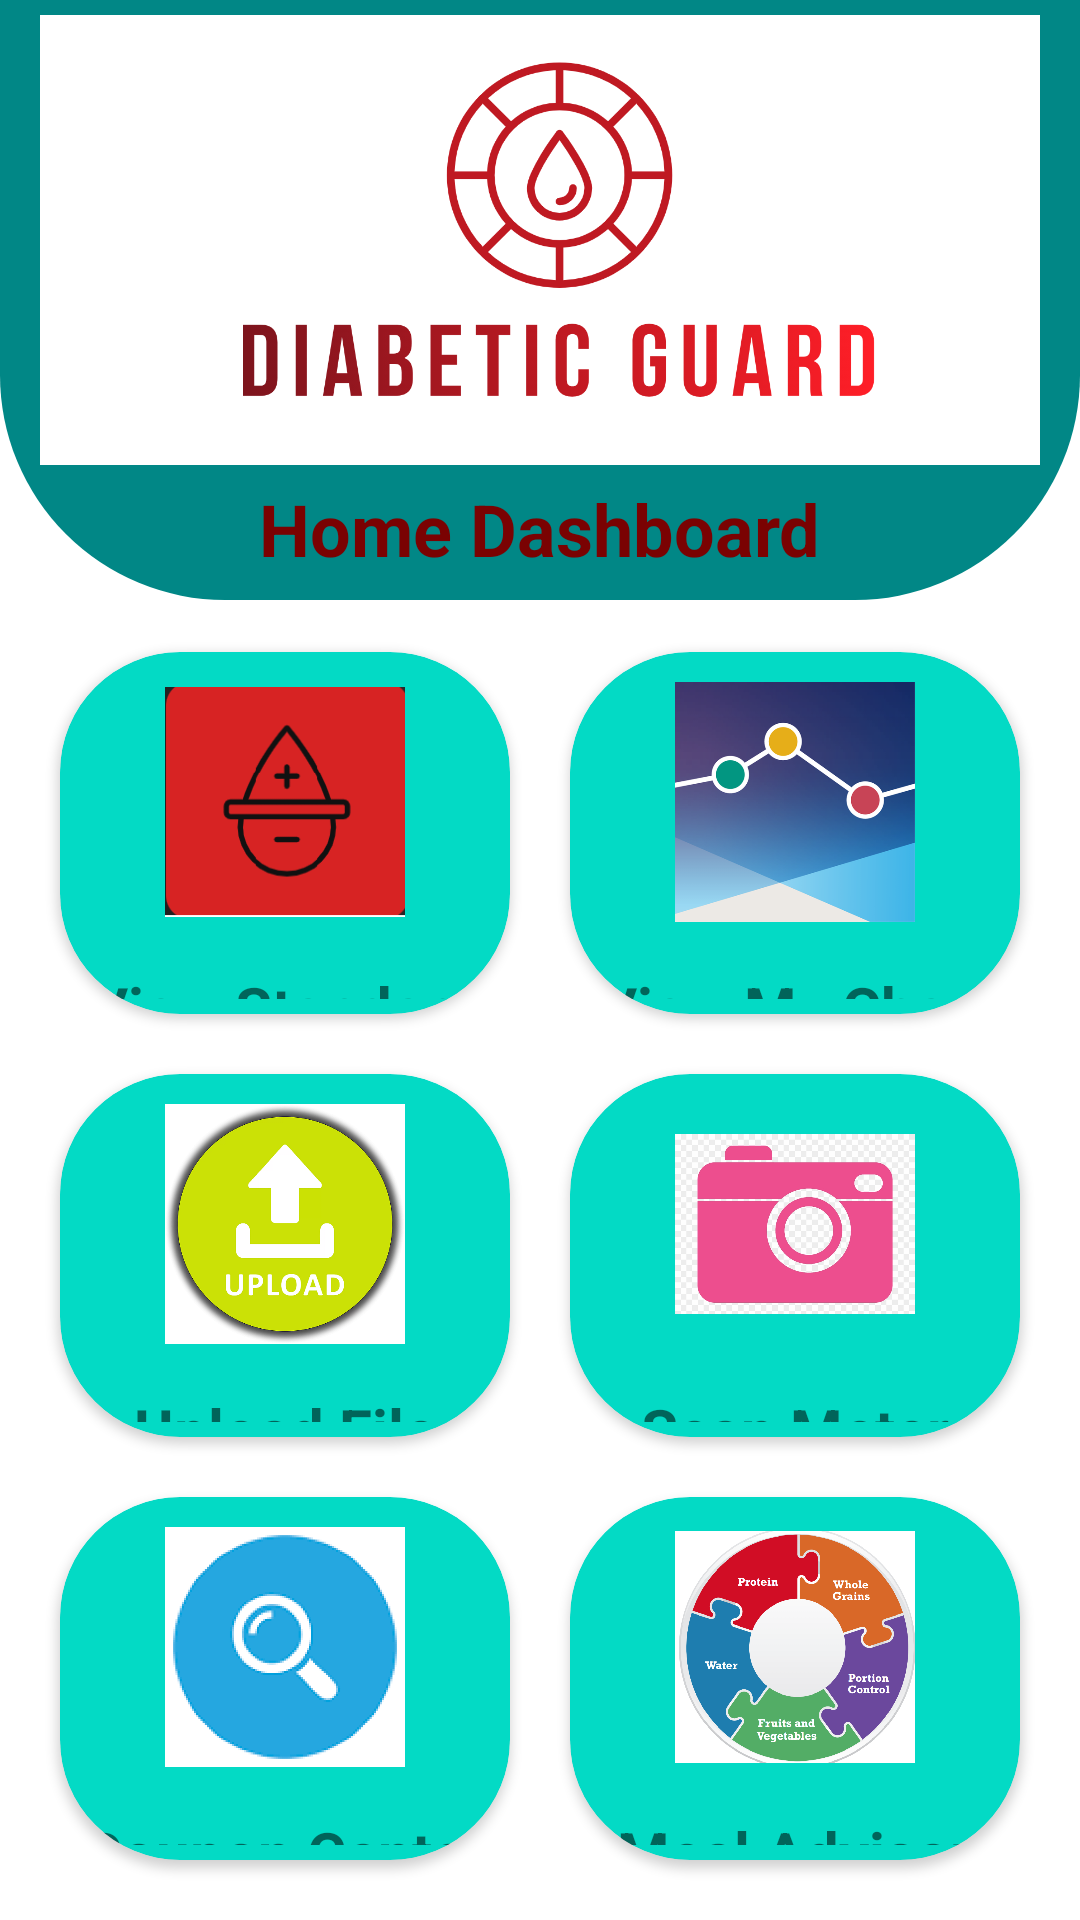

Icons on this 1080×1920 Android screen, each with the point to tap as [x,y]:
Meal Plan: [795,1647]
